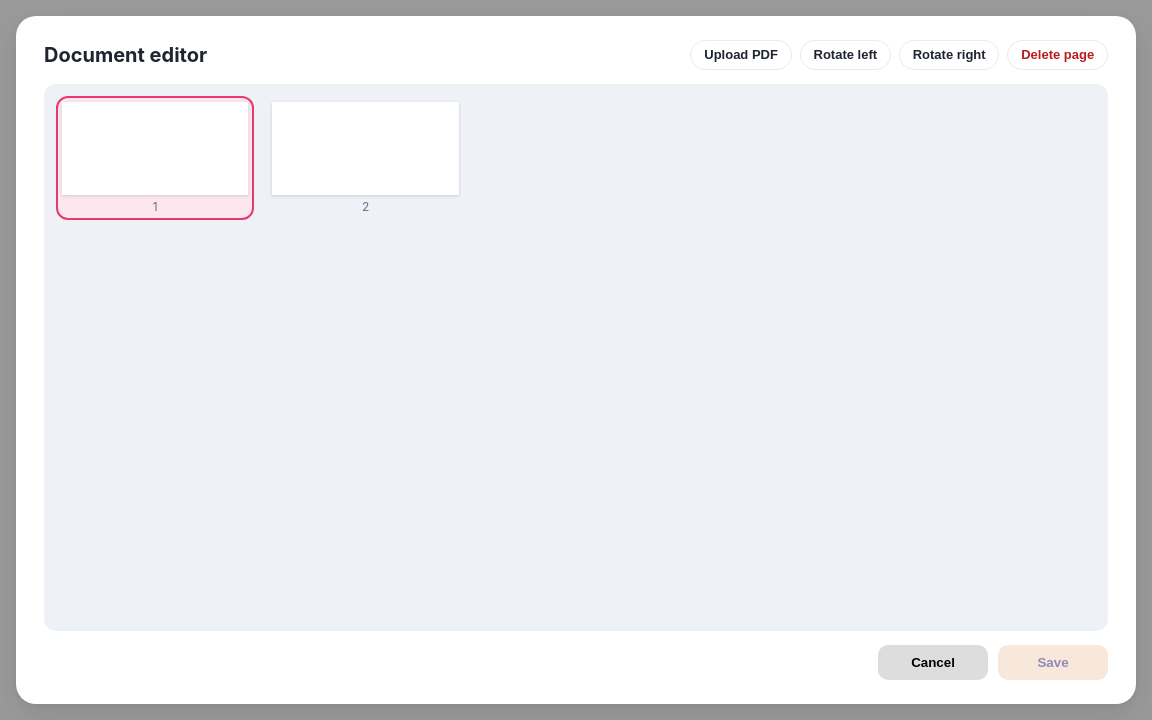
it: a failed Save keeps the editor open with the error and re-enables the buttons
Click the button with test id "document-editor-rotate-right". click: (949, 55)
box: [899,40,999,70]
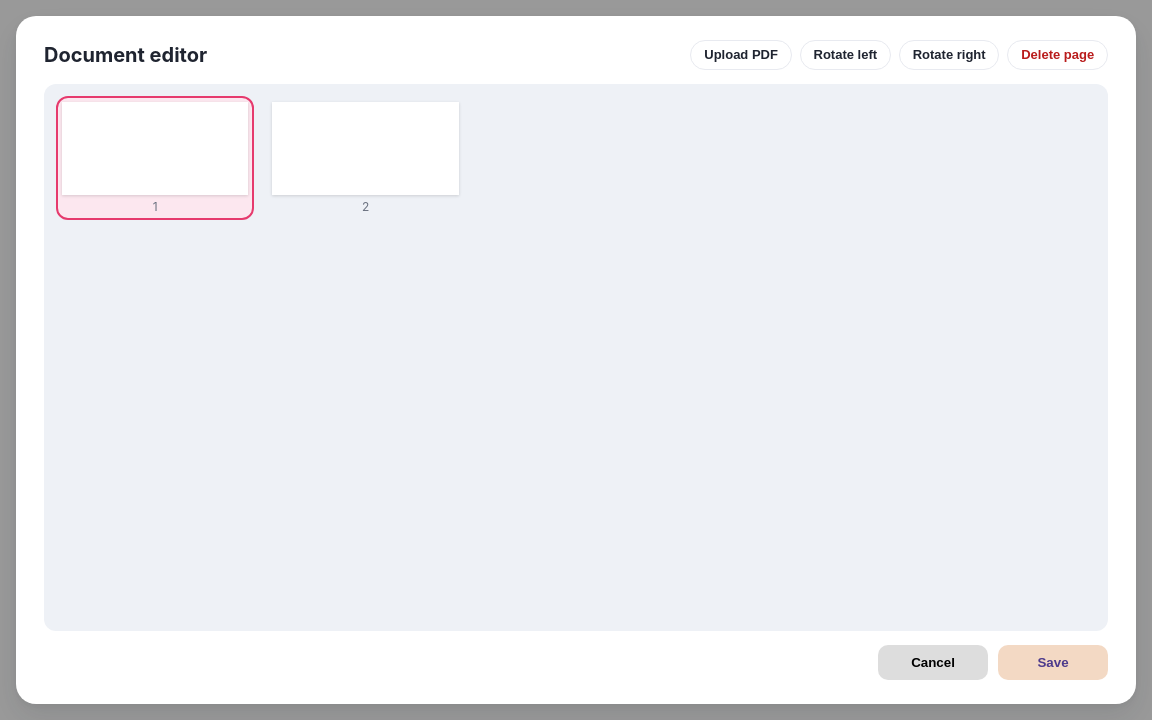
Click the button with test id "document-editor-save". click: (1053, 662)
box: [998,645,1108,680]
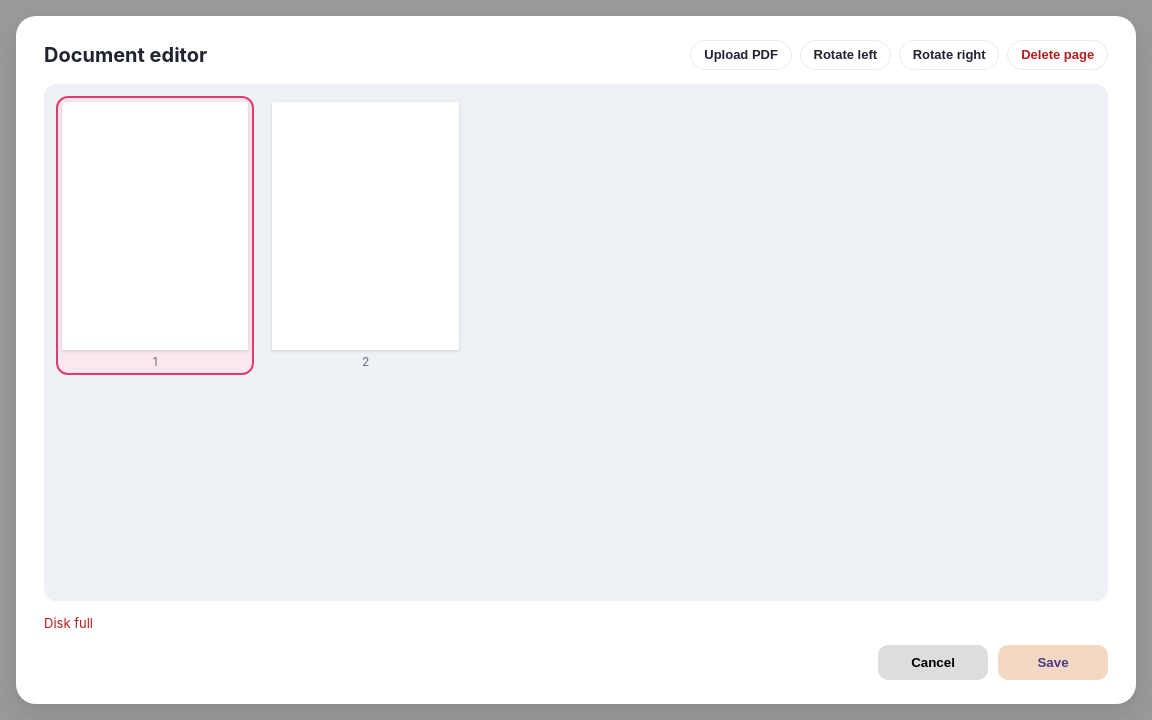
Now the message with test id "document-editor-save-error" reads "Disk full", box [44,615,93,631]
